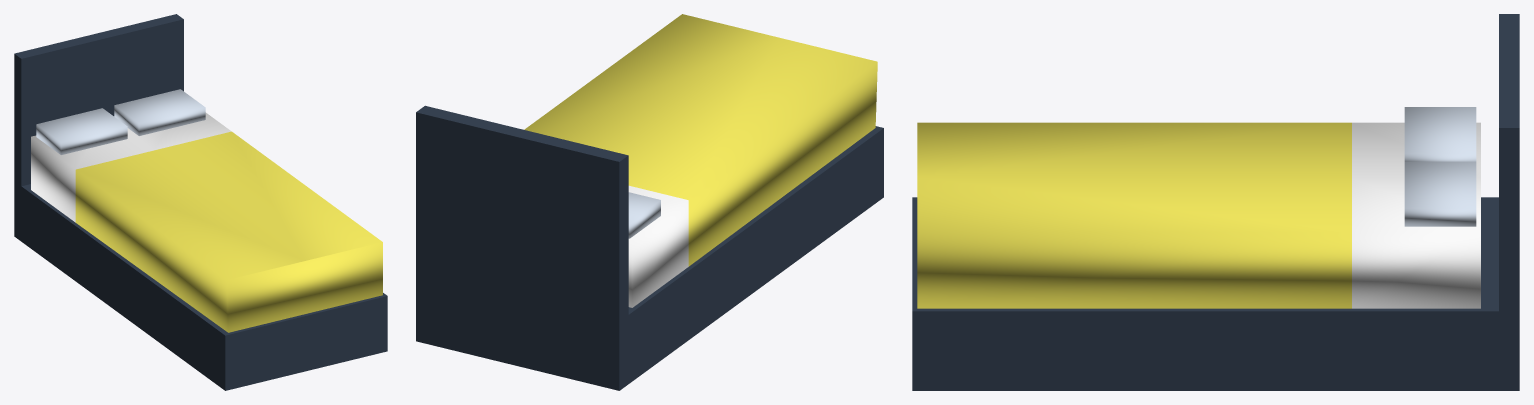
The model's file is oldmanbed.glb.
The picture shows the model from 3 angles, left to right: view 1: azimuth 30°, elevation 25°; view 2: azimuth 150°, elevation 25°; view 3: azimuth 270°, elevation 25°; orthographic projection. The views are drawn at different scales.
Parts seen in each view (by area): view 1: Bed; view 2: Bed; view 3: Bed.
Part boxes in pixels (x1,y1,x2,y2): Bed: (14,14,387,390); Bed: (416,14,883,390); Bed: (912,14,1519,390).
Bounding box in the file's own units: 0.8846 × 0.9513 × 1.99.
1 material, 1 textured.
